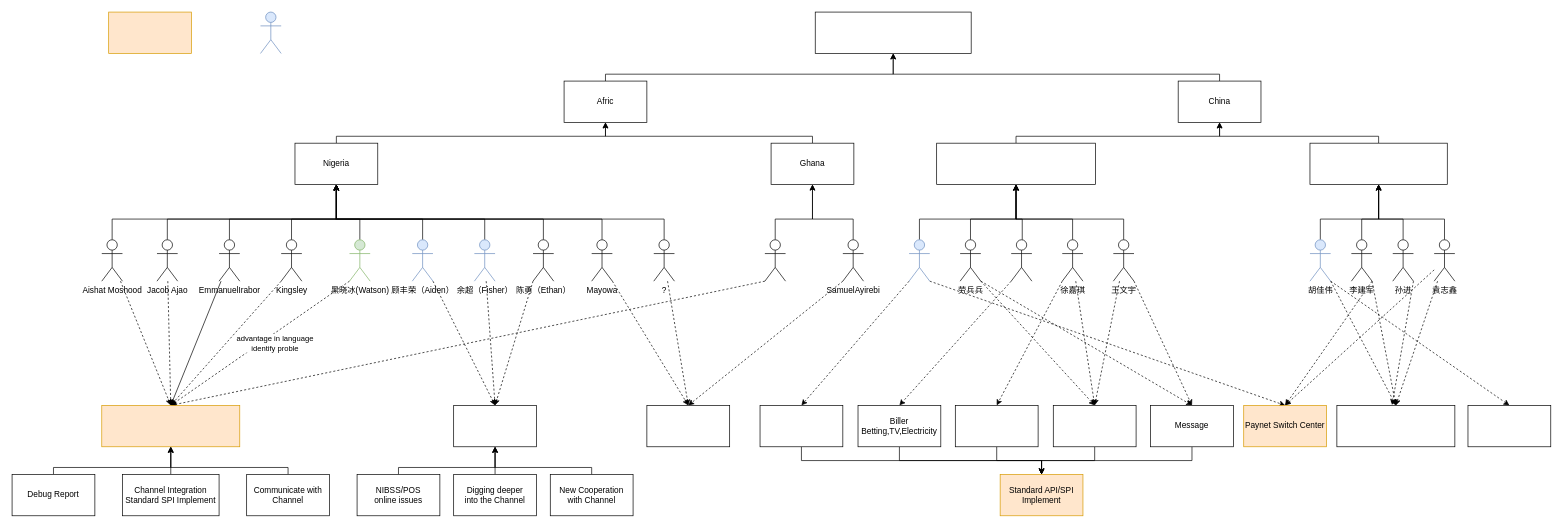
This 1563x528 diagram has some shape labels left out. Each missing label, with the box of its shape:
B-Side Channel R&D Team: (1309, 142, 1447, 185)
back up for Owen Zhang: (260, 11, 281, 53)
Biller AirTime，DataBundle: (955, 405, 1038, 447)
C-Side Channel R&D Team: (936, 142, 1095, 185)
Channel Gateway Localization: (101, 405, 240, 447)
Digging deeper into POS: (1467, 405, 1551, 447)
Multi Country Business: (759, 405, 843, 447)
Network Operation: (646, 405, 730, 447)
Optimize Channel Optimize Business Optimize Team: (453, 405, 536, 447)
Payment: (1053, 405, 1136, 447)
Payment Network R&D Team: (815, 11, 971, 53)
Pedahel Emmanuel Kojo: (764, 239, 786, 281)
POS Channel Integration: (1336, 405, 1455, 447)
Strategy: (108, 11, 191, 53)
孙志远（Kris）: (908, 239, 930, 281)
汪旭: (1011, 239, 1032, 281)
